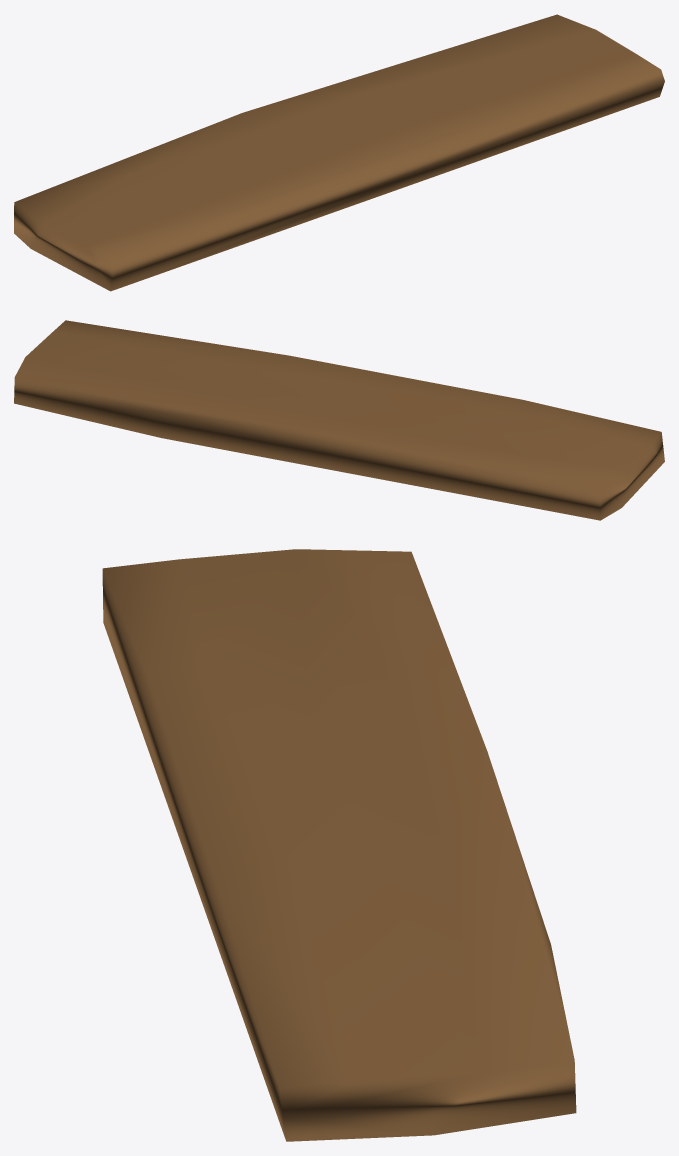
File: plank_4.fbx
The picture shows the model from 3 angles, top to bottom: view 1: azimuth 30°, elevation 25°; view 2: azimuth 150°, elevation 25°; view 3: azimuth 270°, elevation 25°; orthographic projection. The views are drawn at different scales.
Visible parts, largest first — view 1: plank thin; view 2: plank thin; view 3: plank thin.
Boxes of the visible parts, bbox=[...] form: plank thin: bbox=[14, 14, 664, 291]; plank thin: bbox=[14, 320, 664, 520]; plank thin: bbox=[102, 549, 576, 1141].
Bounding box in the file's own units: 5407 × 383 × 1930.
